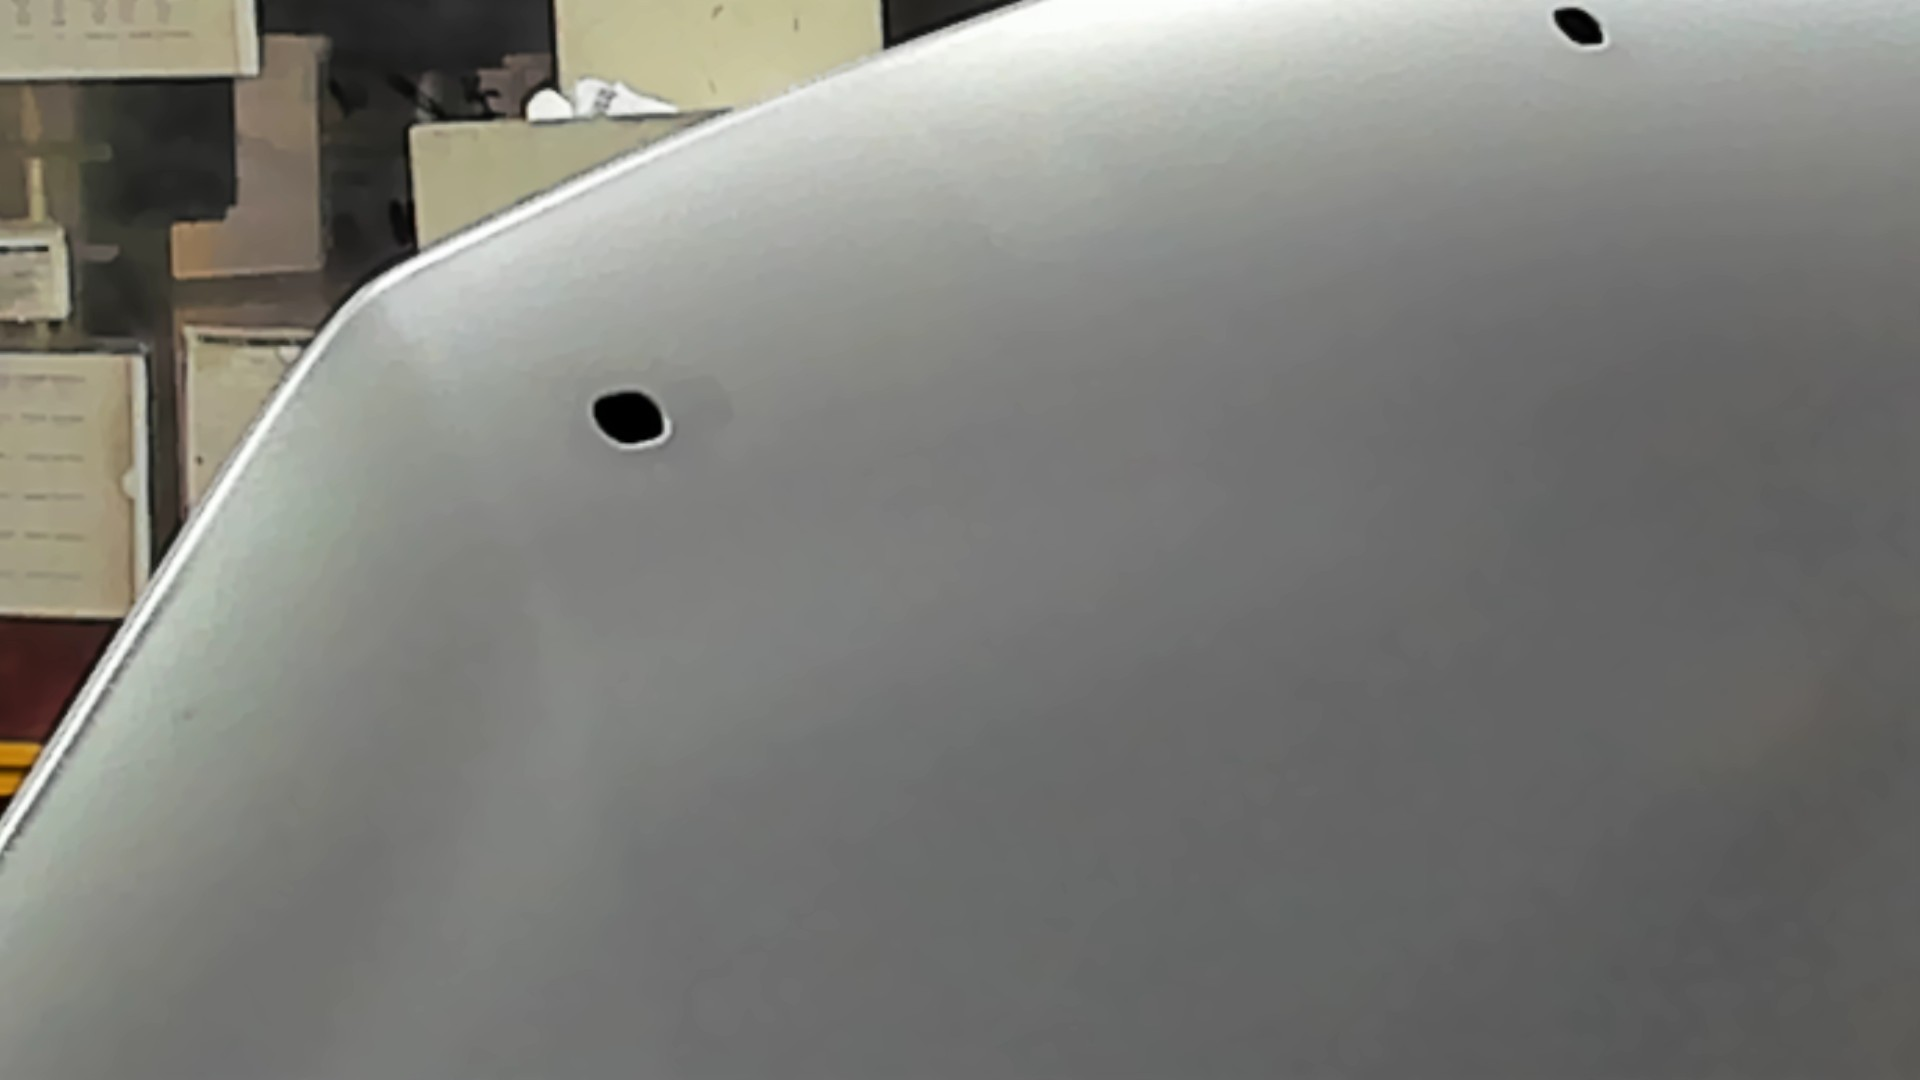amorfo: (583, 382, 678, 454), (1547, 3, 1611, 53)
capo: (851, 92, 1920, 1080)
